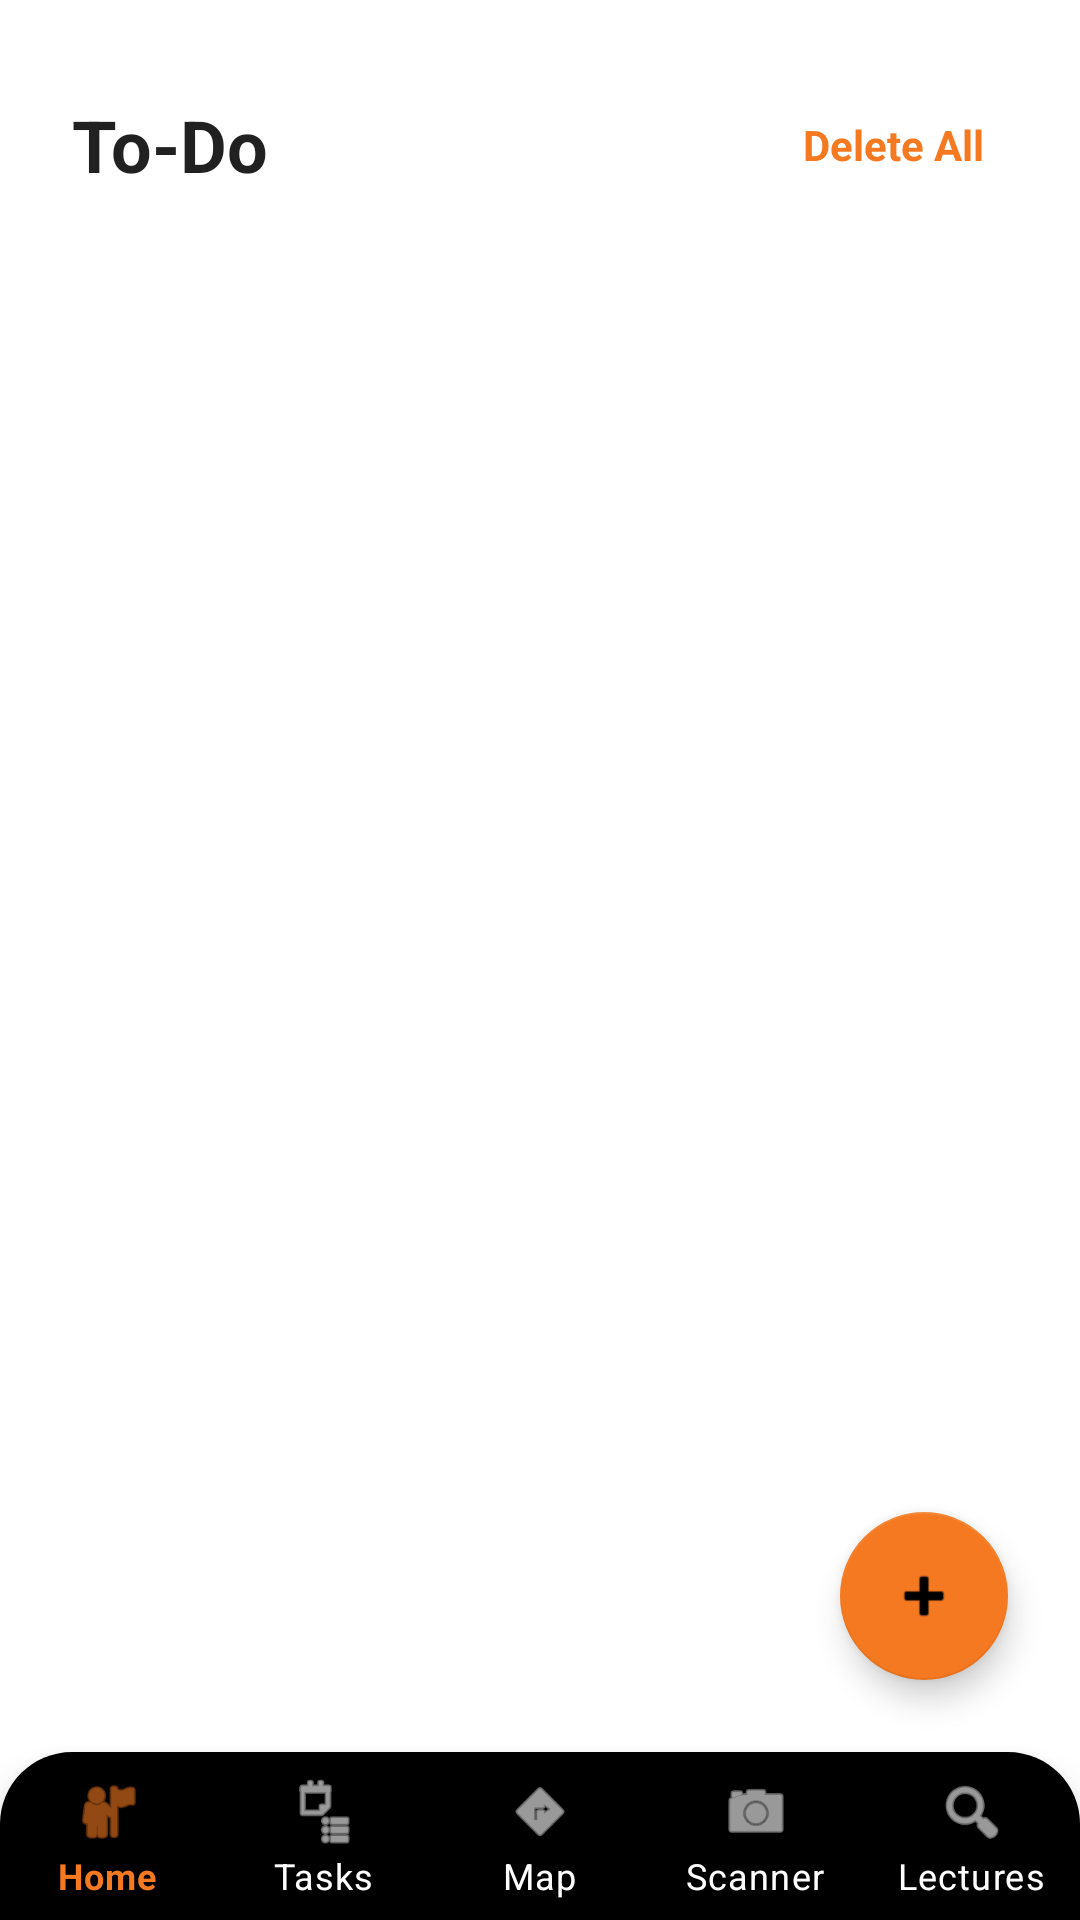

Icon click points for this 1080×1920 phone screenshot, format point (x, y):
Add Assignment: point (924, 1596)
